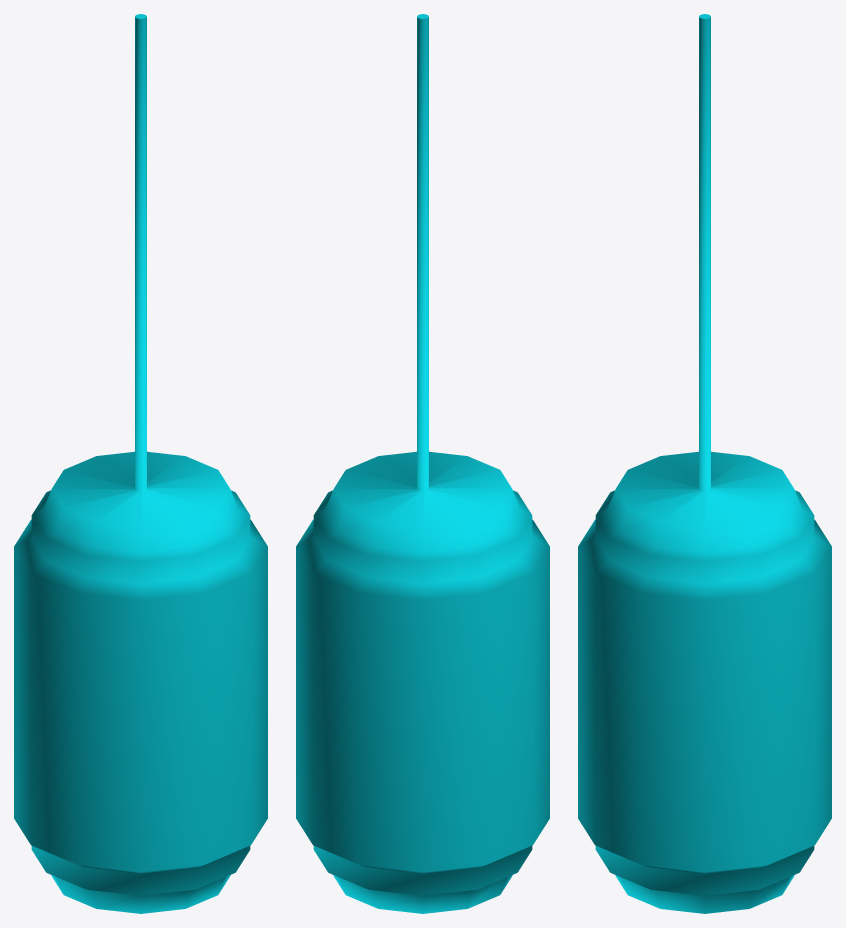
The model's file is board3.fbx.
The picture shows the model from 3 angles, left to right: view 1: azimuth 30°, elevation 25°; view 2: azimuth 150°, elevation 25°; view 3: azimuth 270°, elevation 25°; orthographic projection.
Visible parts, largest first — view 1: lantern; view 2: lantern; view 3: lantern.
Boxes of the visible parts, box(x1,y1,x2,y2) form: lantern: box(14, 14, 267, 913); lantern: box(296, 14, 549, 913); lantern: box(578, 14, 831, 913).
Bounding box in the file's own units: 4.82 × 17.98 × 4.82.
